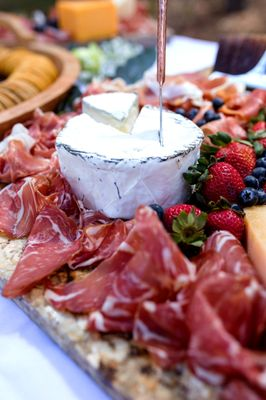sushi: (55, 100, 205, 219), (55, 0, 120, 44)
